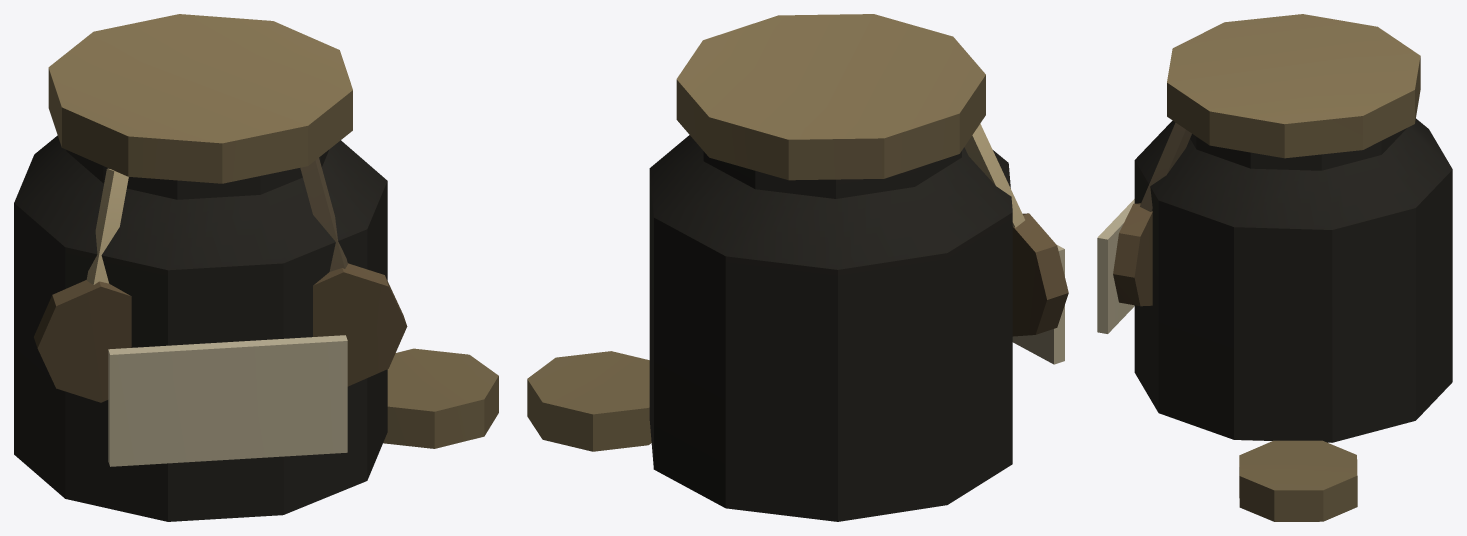
The model's file is ph_item_specimen_jar_eyes.glb.
3 views of the same model, side by side, from view 1: azimuth 30°, elevation 25°; view 2: azimuth 150°, elevation 25°; view 3: azimuth 270°, elevation 25° (orthographic). The views are drawn at different scales.
Visible parts, largest first — view 1: ph_item_specimen_jar_eyes; view 2: ph_item_specimen_jar_eyes; view 3: ph_item_specimen_jar_eyes.
Part boxes in pixels (left/top/right/bottom): ph_item_specimen_jar_eyes: left=14, top=14, right=498, bottom=521; ph_item_specimen_jar_eyes: left=527, top=14, right=1068, bottom=521; ph_item_specimen_jar_eyes: left=1097, top=14, right=1452, bottom=521.
Bounding box in the file's own units: 0.164 × 0.1274 × 0.1227.
